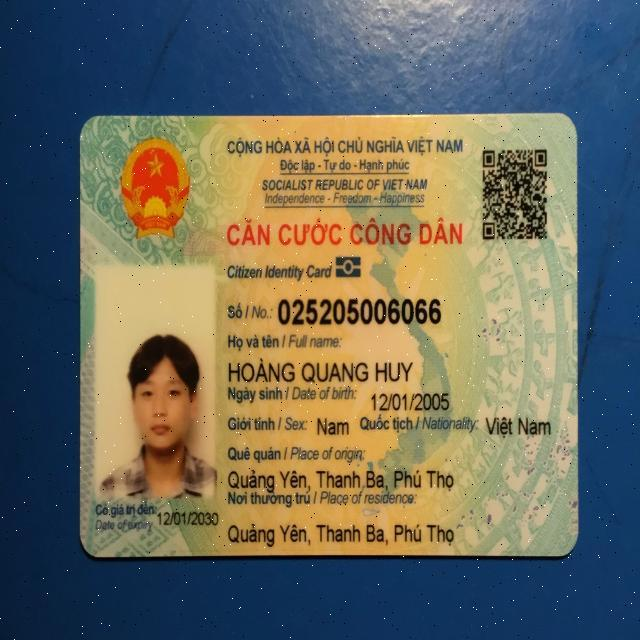current_place: (225, 520, 455, 551)
dob: (368, 389, 448, 415)
expire_date: (158, 504, 220, 532)
gender: (312, 404, 360, 440)
id: (275, 288, 443, 327)
name: (227, 353, 420, 386)
nationality: (479, 398, 556, 441)
origin_place: (227, 460, 459, 492)
qr: (478, 144, 553, 248)
